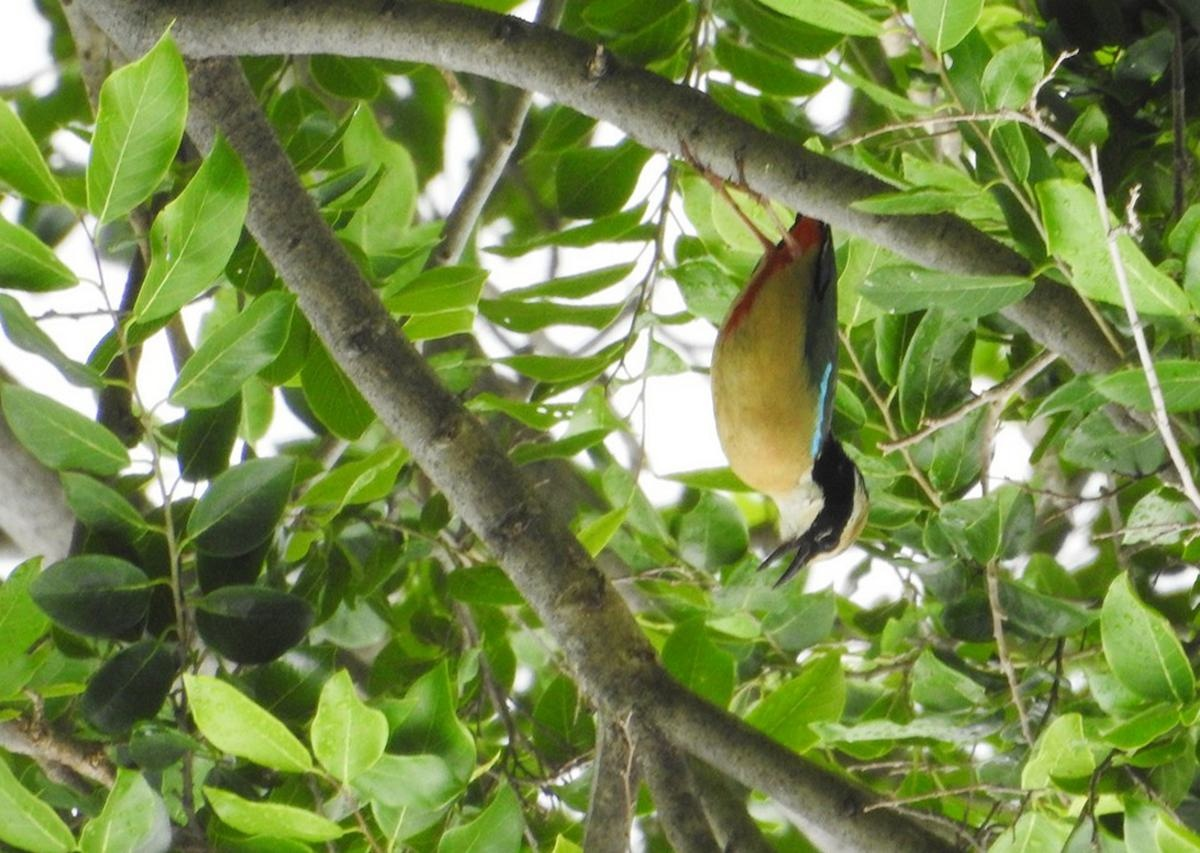pitta: (644, 129, 928, 614)
